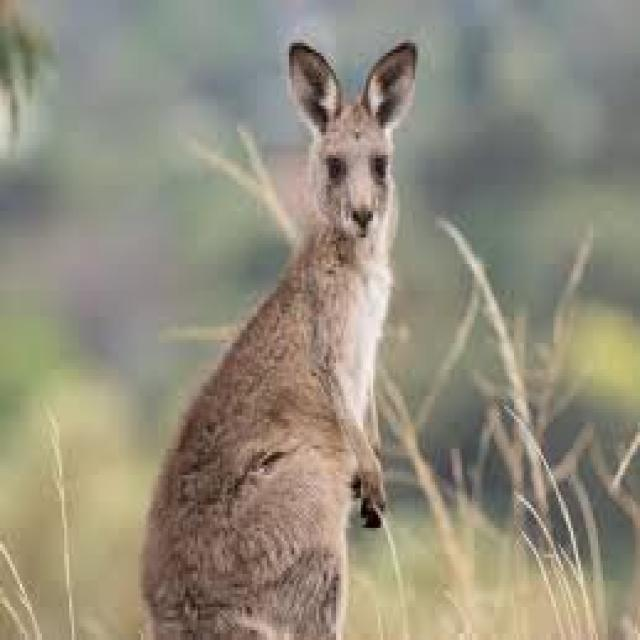Kangaroo: (139, 20, 422, 640)
